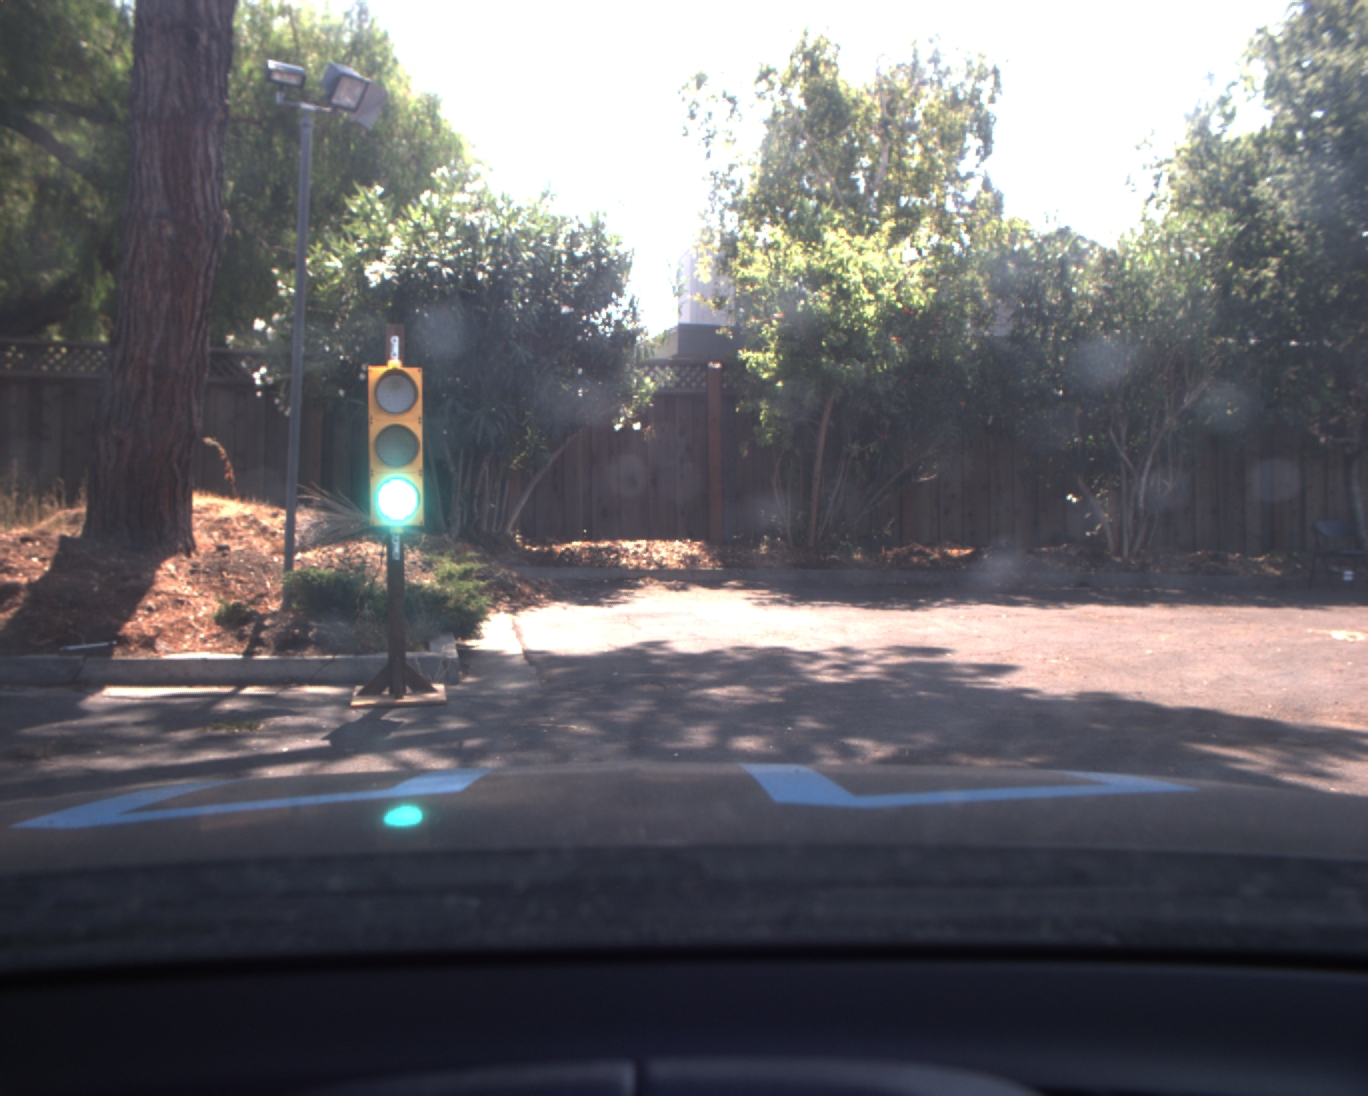green: (368, 365, 429, 530)
